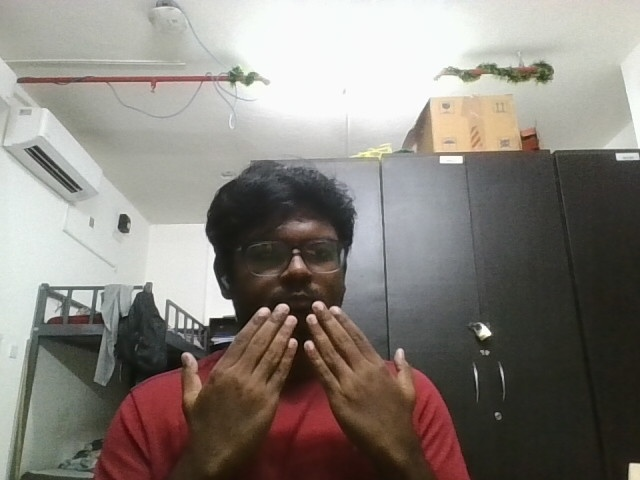Thanks: (167, 291, 449, 479)
